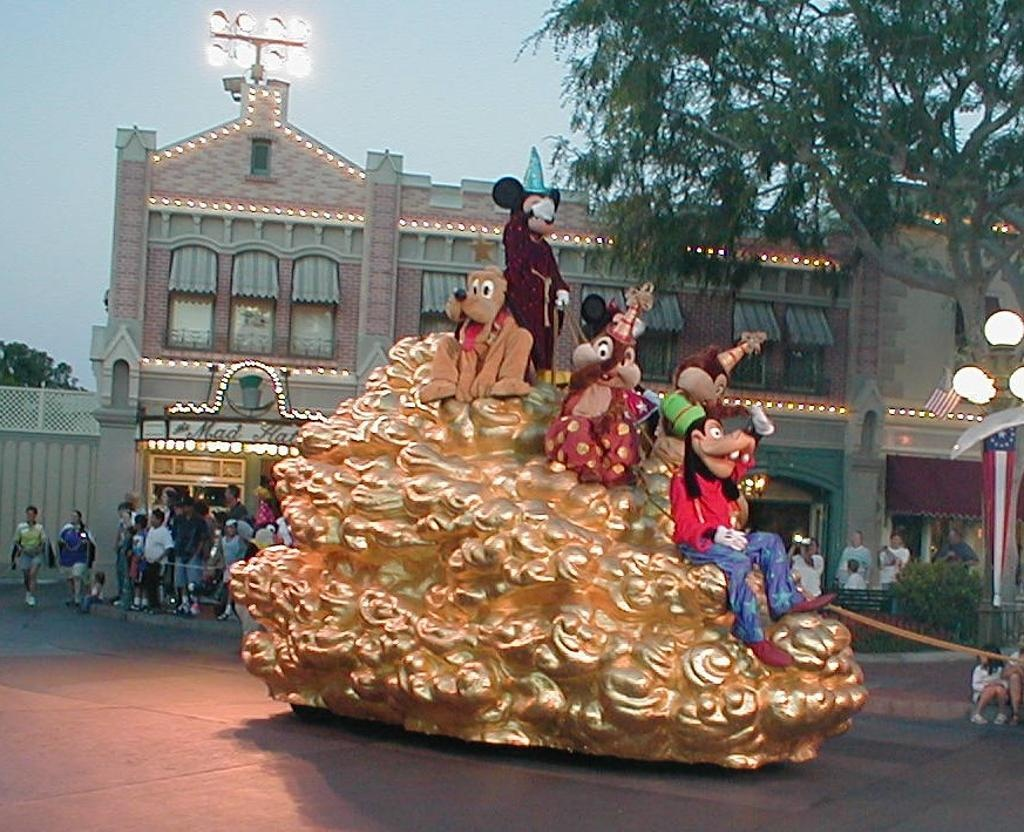human_face: (949, 528, 959, 544), (980, 648, 990, 664), (1016, 634, 1024, 652), (806, 539, 816, 553), (224, 486, 234, 499), (151, 513, 161, 525), (126, 494, 134, 508), (851, 530, 859, 544), (162, 490, 170, 502), (892, 534, 900, 546), (27, 509, 35, 520), (181, 500, 189, 511), (122, 513, 130, 523), (174, 502, 180, 514), (846, 560, 852, 572), (72, 510, 78, 520), (119, 504, 125, 514), (136, 518, 142, 528), (228, 523, 234, 533), (216, 517, 222, 527), (95, 574, 101, 580)
